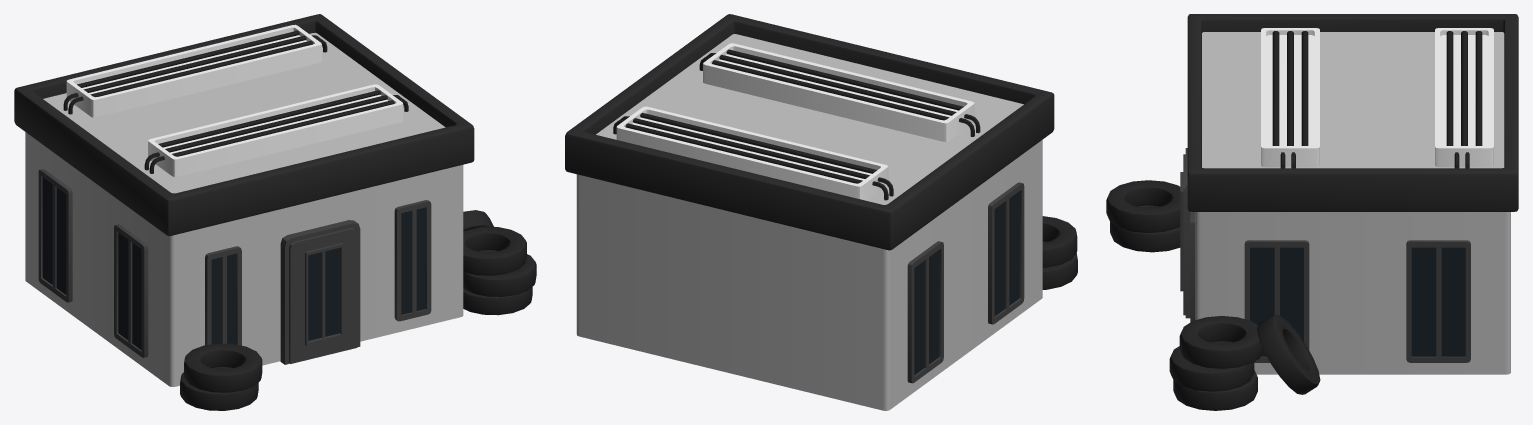
File: SM_gasstation_shop.fbx
3 views of the same model, side by side, from view 1: azimuth 30°, elevation 25°; view 2: azimuth 150°, elevation 25°; view 3: azimuth 270°, elevation 25° (orthographic). The views are drawn at different scales.
Parts seen in each view (by area): view 1: Object32423; view 2: Object32423; view 3: Object32423.
Boxes of the visible parts, x1,y1,x2,y2 form: Object32423: [14, 14, 536, 410]; Object32423: [565, 14, 1077, 410]; Object32423: [1106, 14, 1518, 410].
Size of the model in its own units: 247 by 125 by 220.
